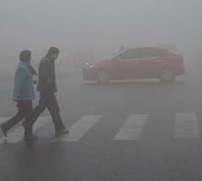person: (22, 46, 71, 137), (1, 49, 41, 142)
